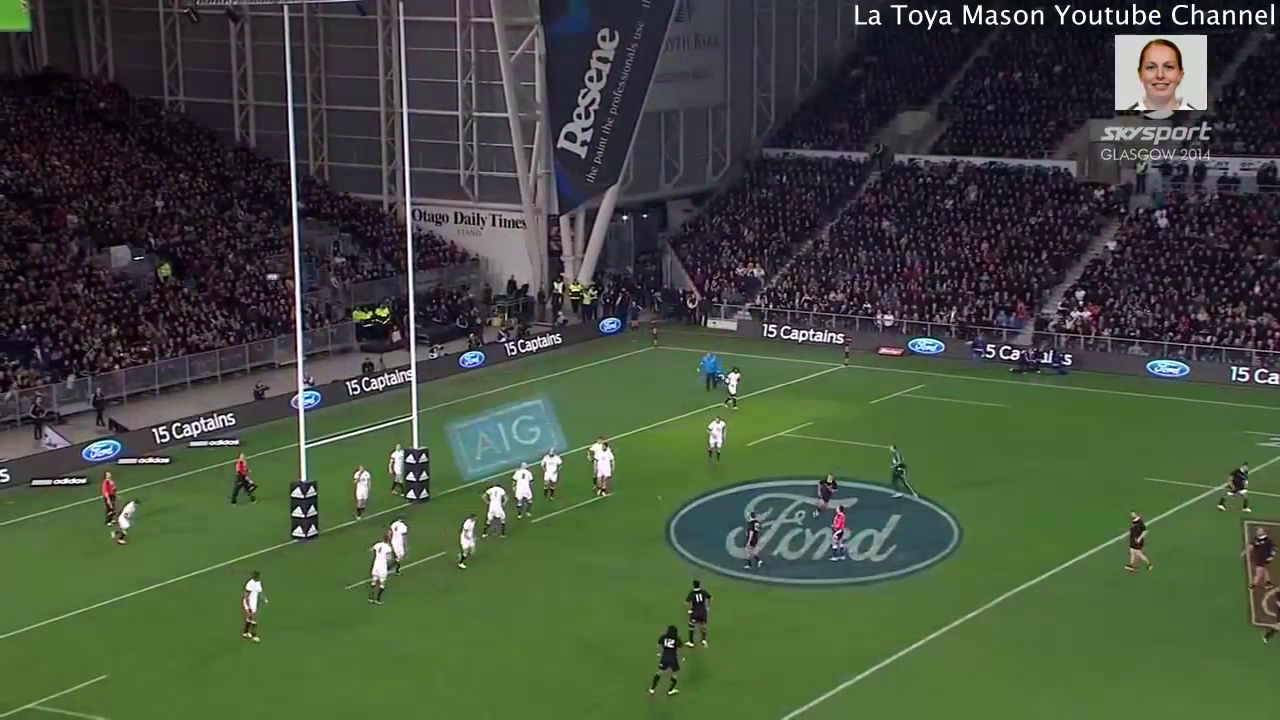player: (230, 567, 274, 652), (645, 622, 692, 698), (1118, 507, 1157, 575), (1212, 458, 1255, 515), (681, 576, 714, 650), (882, 439, 921, 500), (1241, 524, 1275, 592), (336, 463, 375, 517), (372, 536, 401, 608), (533, 444, 566, 507), (507, 458, 539, 522), (387, 511, 414, 583), (481, 481, 512, 542), (111, 493, 148, 543), (739, 508, 767, 572), (452, 509, 479, 570), (825, 502, 851, 561), (815, 467, 845, 515), (717, 365, 747, 410), (593, 440, 616, 498), (386, 436, 405, 503), (704, 411, 727, 464), (583, 434, 603, 465)
post: (281, 134, 437, 550)
